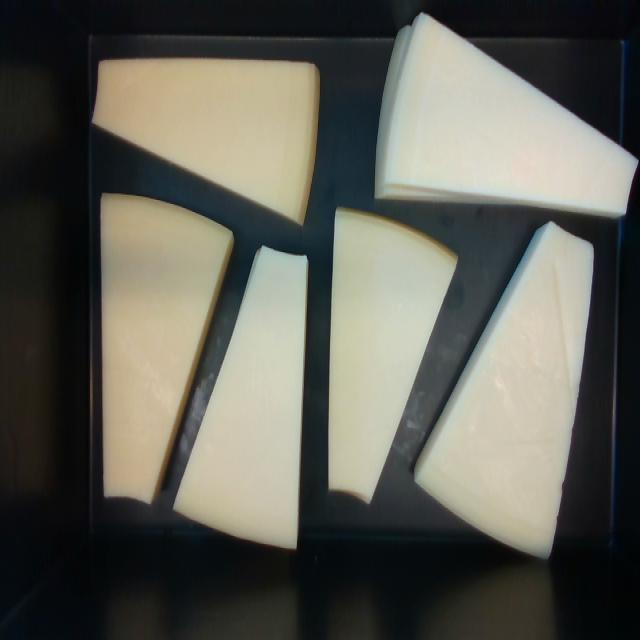cheese: (416, 223, 592, 556), (386, 15, 636, 210), (101, 195, 233, 501), (174, 248, 307, 548), (329, 211, 456, 500), (93, 59, 318, 220)
